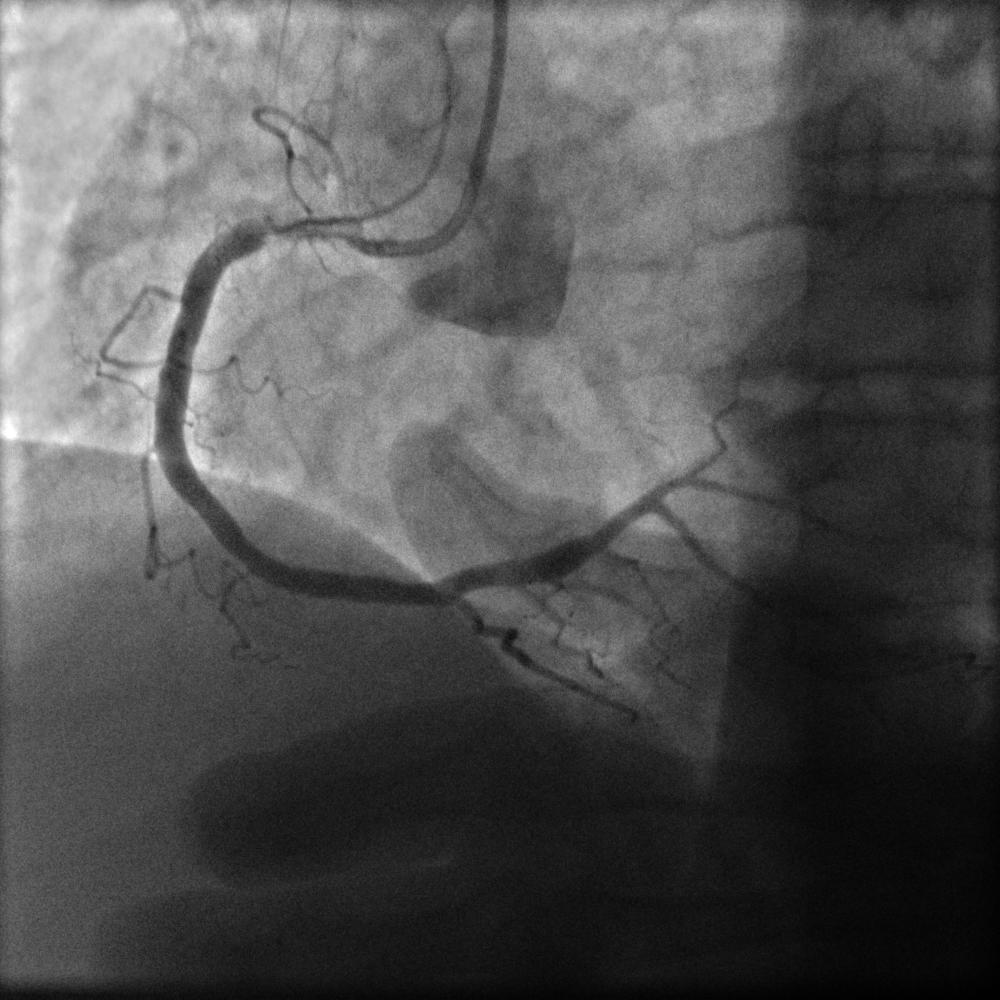Stenosis: (249, 206, 349, 249)
